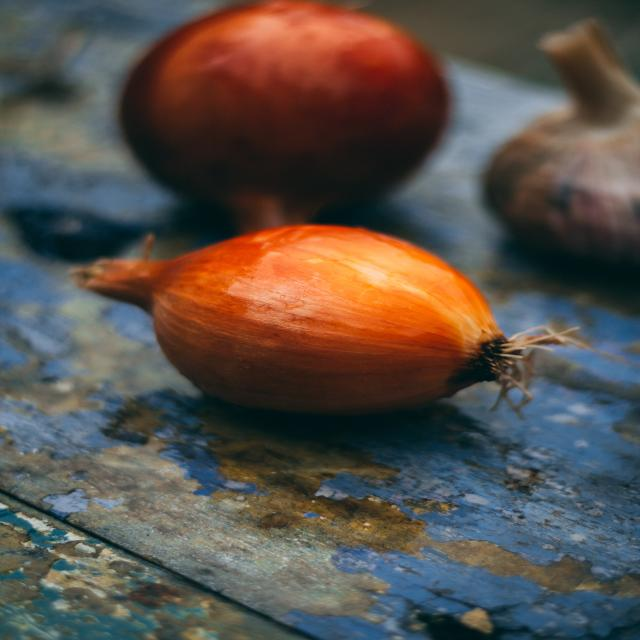onion: (80, 225, 540, 422)
